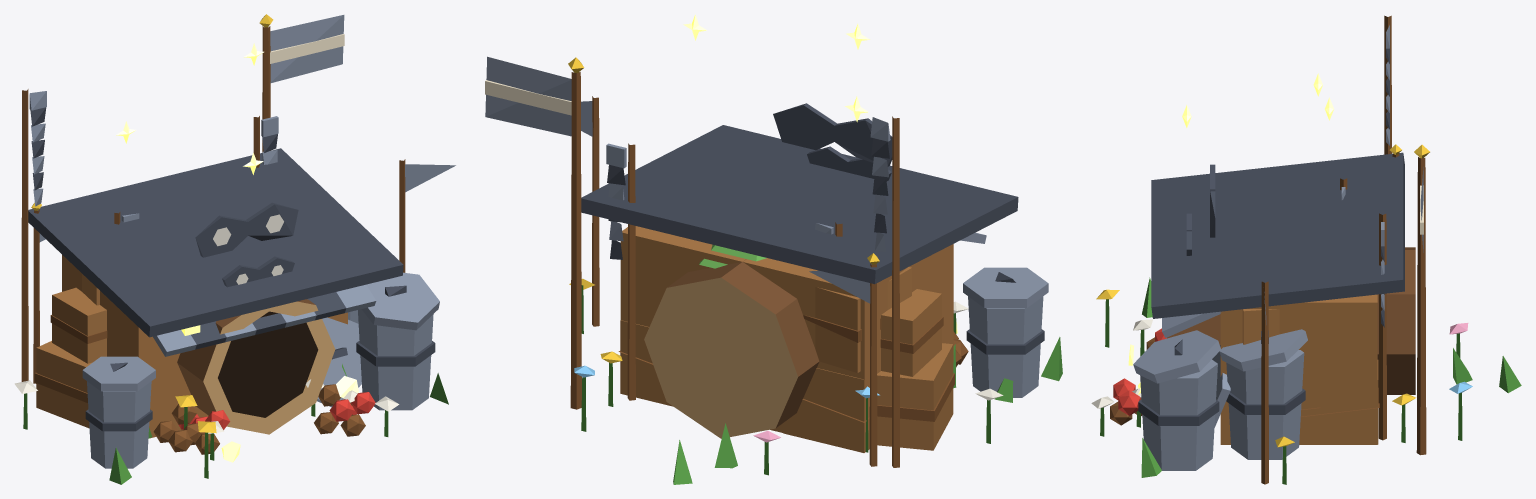
Rendered from raccoon-stash-den.glb.
3 views of the same model, side by side, from view 1: azimuth 30°, elevation 25°; view 2: azimuth 150°, elevation 25°; view 3: azimuth 270°, elevation 25° (orthographic). The views are drawn at different scales.
Parts seen in each view (by area): view 1: lv3, lv2, lv1; view 2: lv3, lv2; view 3: lv3, lv2, lv1.
Boxes of the visible parts, bbox=[...] form: lv3: bbox=[14, 14, 455, 484]; lv2: bbox=[31, 116, 358, 460]; lv1: bbox=[114, 212, 361, 445]; lv3: bbox=[485, 14, 1062, 484]; lv2: bbox=[600, 143, 1013, 468]; lv3: bbox=[1091, 15, 1521, 484]; lv2: bbox=[1132, 144, 1472, 459]; lv1: bbox=[1212, 178, 1347, 427].
Bounding box in the file's own units: 1.91 × 1.39 × 1.65.
